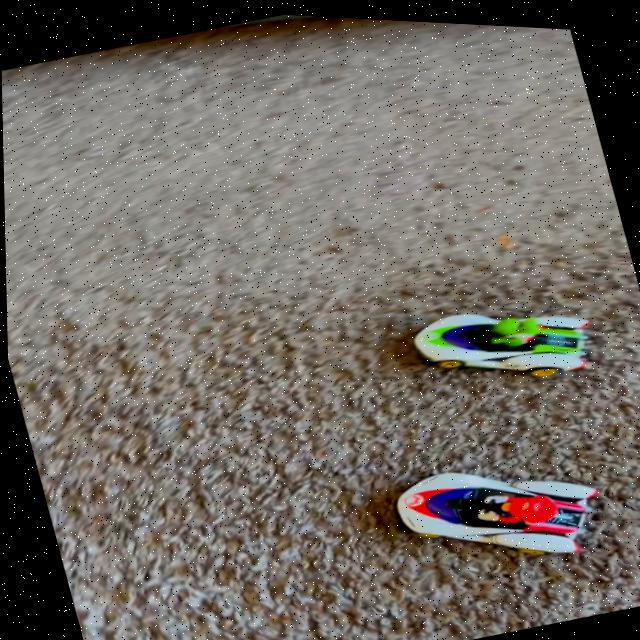mario: (370, 417, 627, 596)
yoshi: (392, 261, 612, 404)
